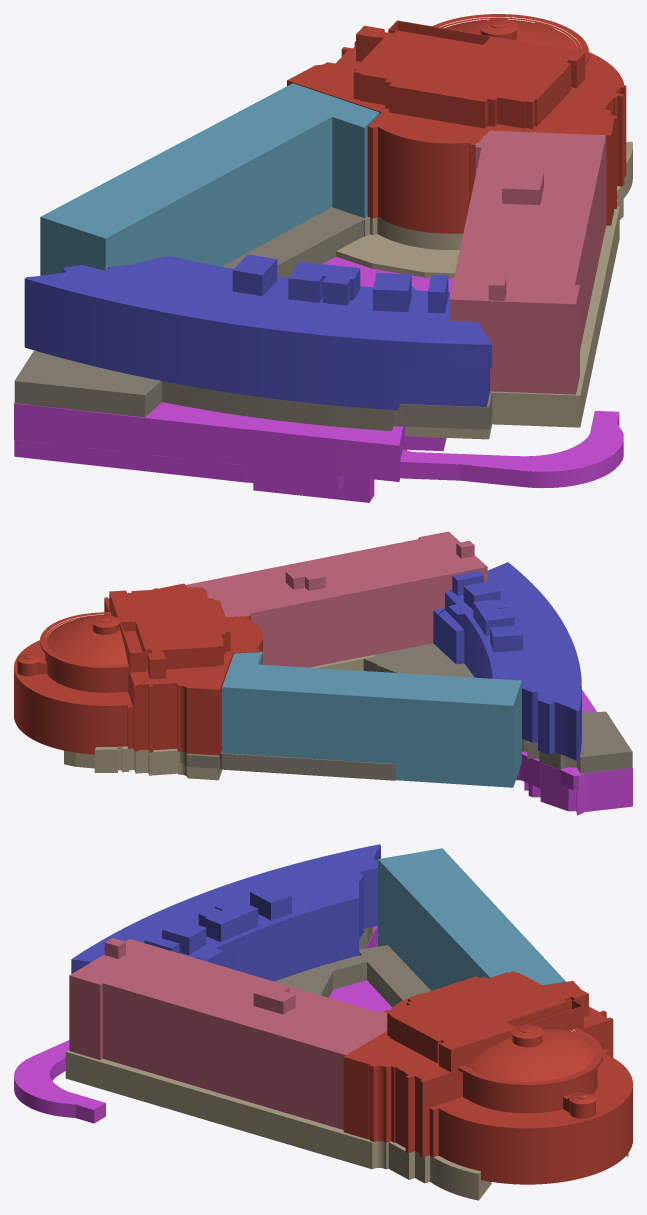
File: vue_bloc.glb
3 renders of one model, top to bottom at view 1: azimuth 30°, elevation 25°; view 2: azimuth 150°, elevation 25°; view 3: azimuth 270°, elevation 25°, orthographic. The views are drawn at different scales.
Size of the model in its own units: 123 by 35.49 by 111.
